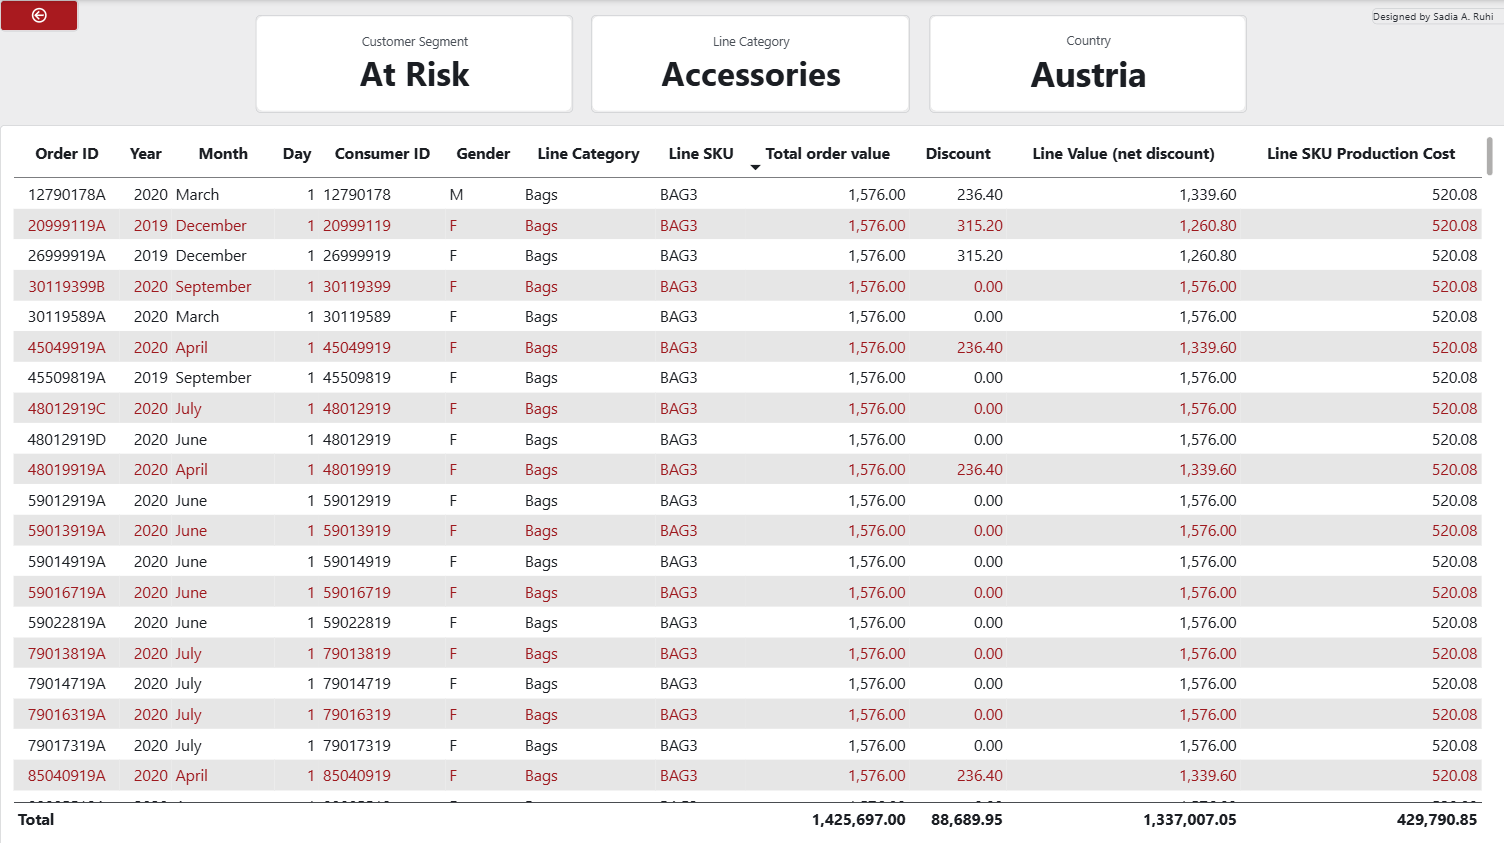

What the dashboard file says about the page in this screenshot:
{"tool":"powerbi","page":{"name":"Explorer","canvas":[1920,1080],"ordinal":3},"visuals":[{"type":"actionButton","box":[0,0,100,40],"z":0},{"type":"tableEx","fields":{"Values":["Purchases info.Order ID","DateTable.Date.Variation.Date Hierarchy.Year","DateTable.Date.Variation.Date Hierarchy.Month","DateTable.Date.Variation.Date Hierarchy.Day","Consumers info.Consumer ID","Consumers info.Gender","Purchases info.Line Category","Purchases info.Line SKU","Sum(Purchases info.Total order value)","Sum(Purchases info.Discount)","Sum(Purchases info.Line Value (net discount))","Sum(Purchases info.Line SKU Production Cost)"]},"box":[0,160,1920,920],"z":1000},{"type":"cardVisual","fields":{"Data":["Min(Consumers info.Country)"]},"box":[1184,20,404,124],"z":2000},{"type":"cardVisual","fields":{"Data":["Min(Purchases info.Line Category)"]},"box":[754,20,406,124],"z":3000},{"type":"cardVisual","fields":{"Data":["Min(RFM Table.Segment)"]},"box":[326,20,404,124],"z":4000},{"type":"textbox","box":[1748,10,172,20],"z":4001}]}

Visuals, with their boxes in screenshot pixels (x1, y1, x2, y2), scaled from the page's 1920x1080 canvas onto the 1504x843 screenshot:
actionButton: Rect(0, 0, 78, 31)
tableEx - Purchases info.Order ID x DateTable.Date.Variation.Date Hierarchy.Year: Rect(0, 125, 1503, 842)
cardVisual - Min(Consumers info.Country): Rect(927, 16, 1244, 112)
cardVisual - Min(Purchases info.Line Category): Rect(591, 16, 909, 112)
cardVisual - Min(RFM Table.Segment): Rect(255, 16, 572, 112)
textbox: Rect(1369, 8, 1503, 23)
